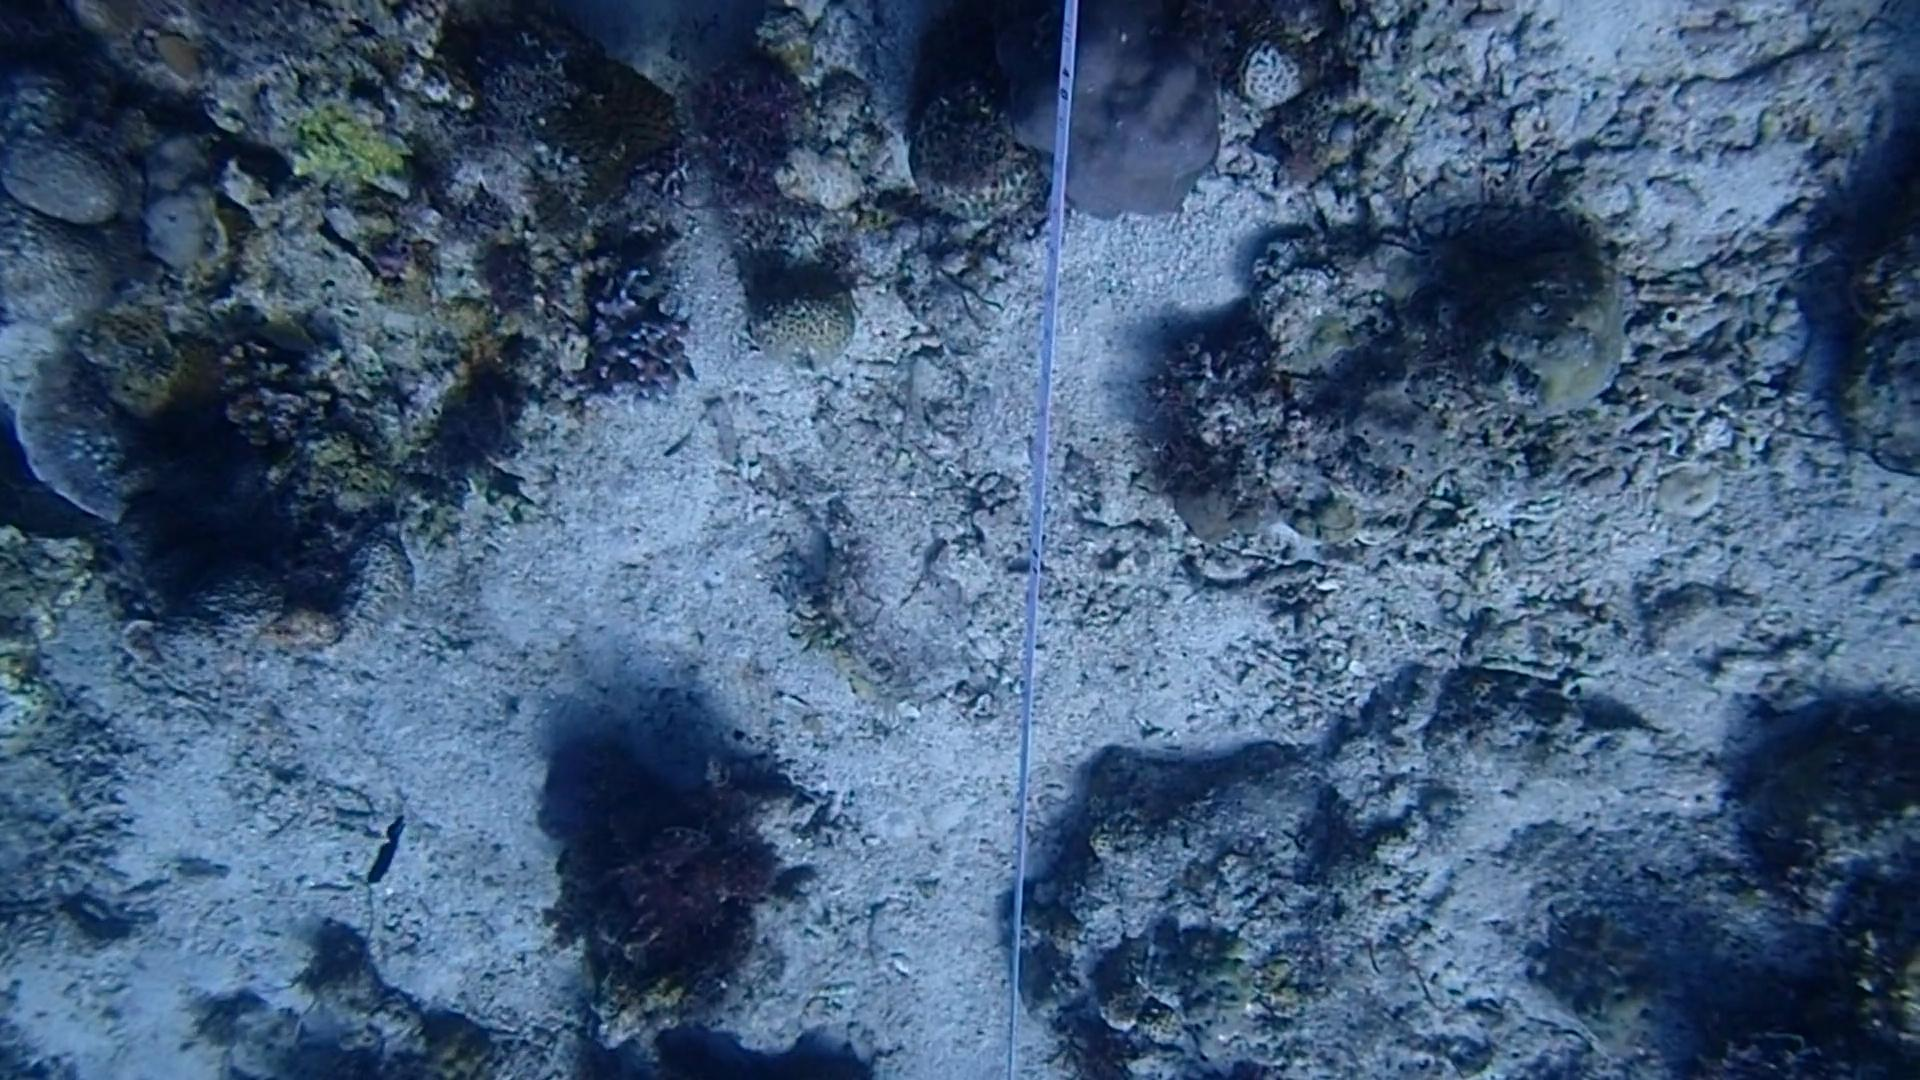Dark Fish: (353, 800, 423, 898)
